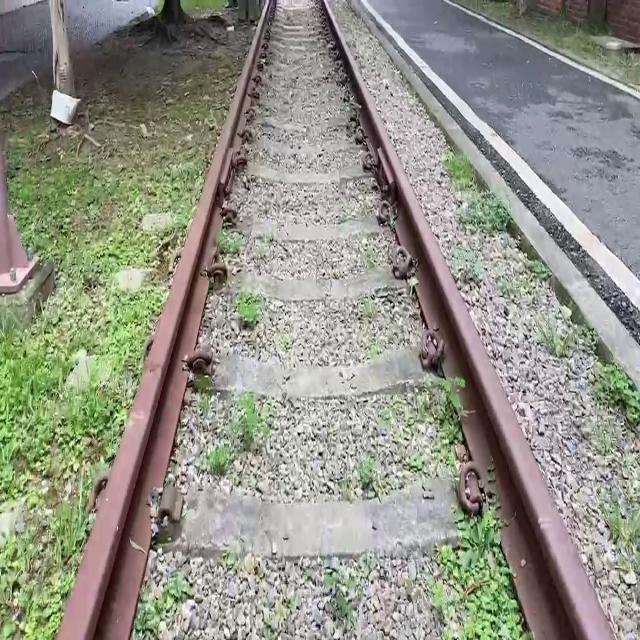rail-track: (138, 0, 461, 640)
